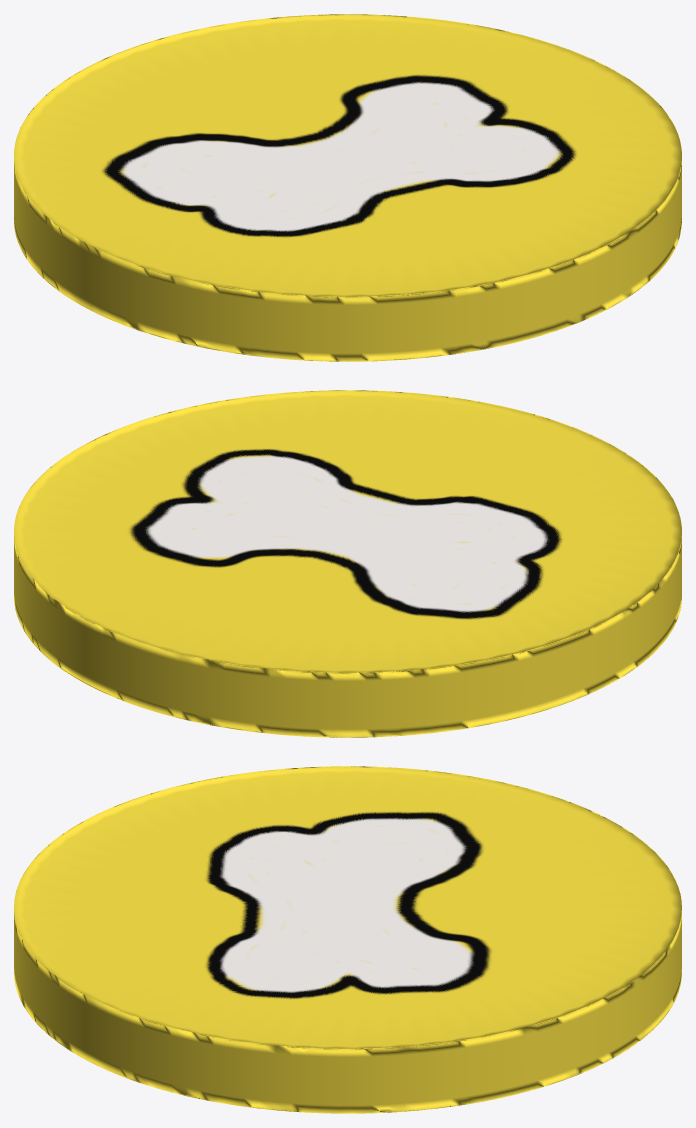
The model's file is Coin.fbx.
3 views of the same model, one above another, from view 1: azimuth 30°, elevation 25°; view 2: azimuth 150°, elevation 25°; view 3: azimuth 270°, elevation 25° (orthographic).
Visible parts, largest first — view 1: Cylinder; view 2: Cylinder; view 3: Cylinder.
Boxes of the visible parts, bbox=[...] form: Cylinder: bbox=[14, 14, 681, 361]; Cylinder: bbox=[14, 390, 681, 737]; Cylinder: bbox=[14, 766, 681, 1113].
Size of the model in its own units: 200 by 21.49 by 200.
Materials: 1 (1 with a texture image).
